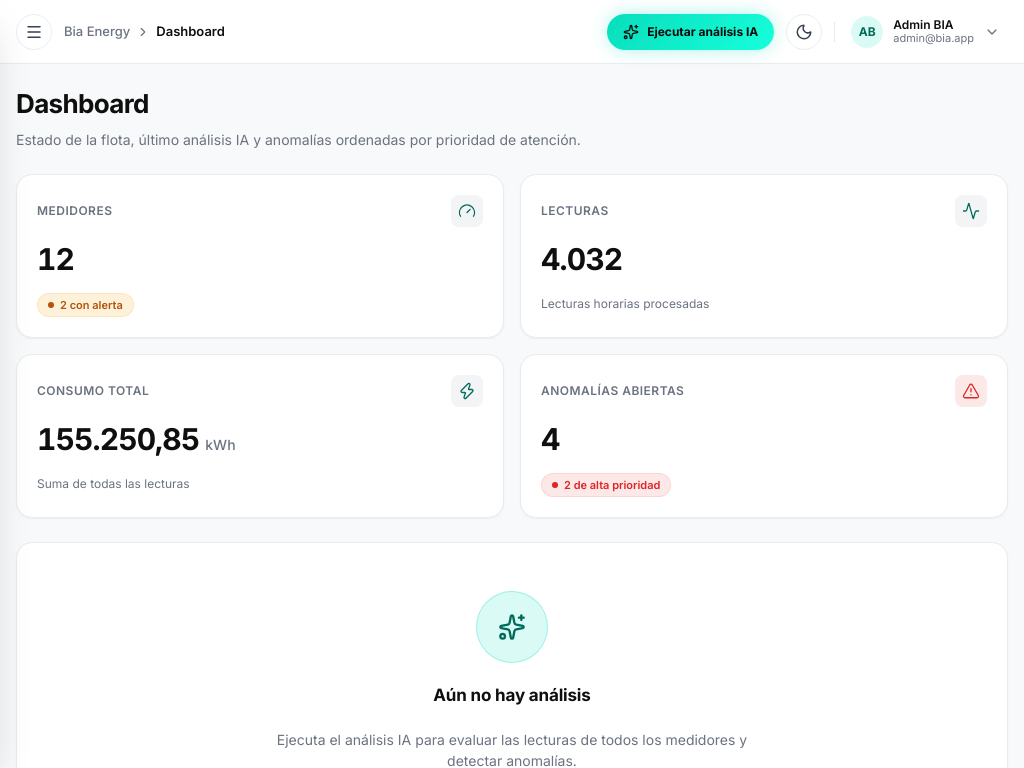
Test: DashboardPage › runs an analysis, follows its progress and refreshes the dashboard when it completes
The width and height of the screenshot is (1024, 768).
Expected: the heading "Aún no hay análisis" is shown, [433, 683, 591, 708]
Click the button "Ejecutar análisis IA" at (691, 32), box [607, 14, 774, 50]
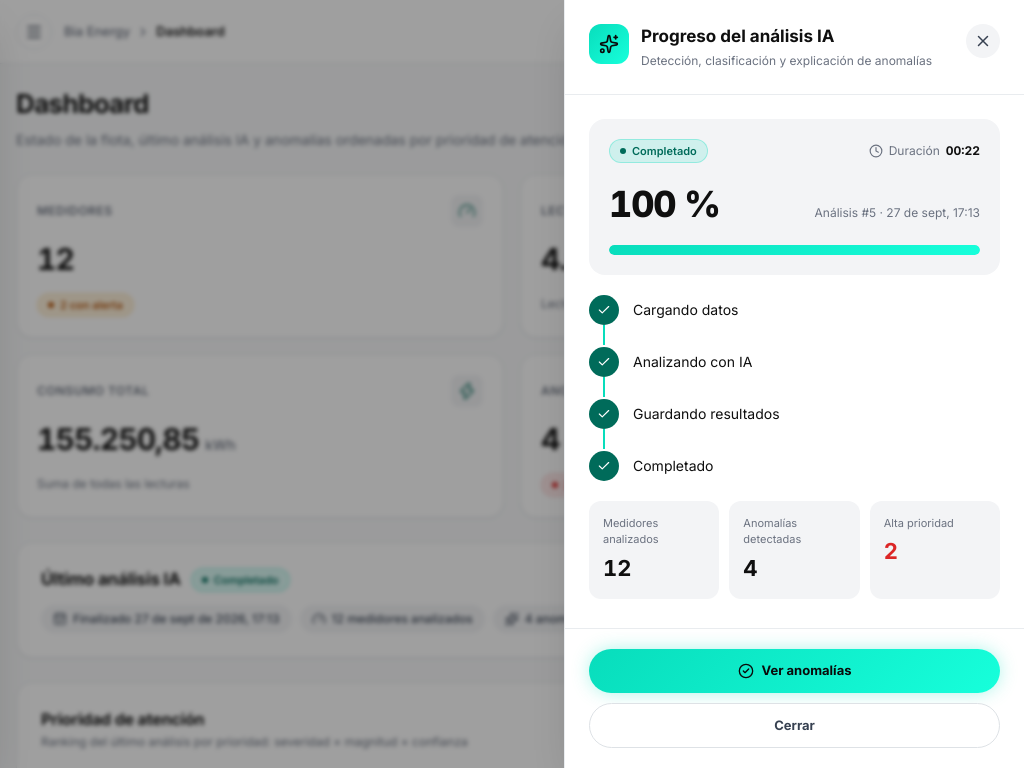
Expected: the text "40 %" is shown, [609, 176, 720, 230]
Expected: the text "Analizando con IA" is shown, [633, 351, 752, 372]
Expected: the button "Ver anomalías" is shown, [589, 649, 1000, 692]
